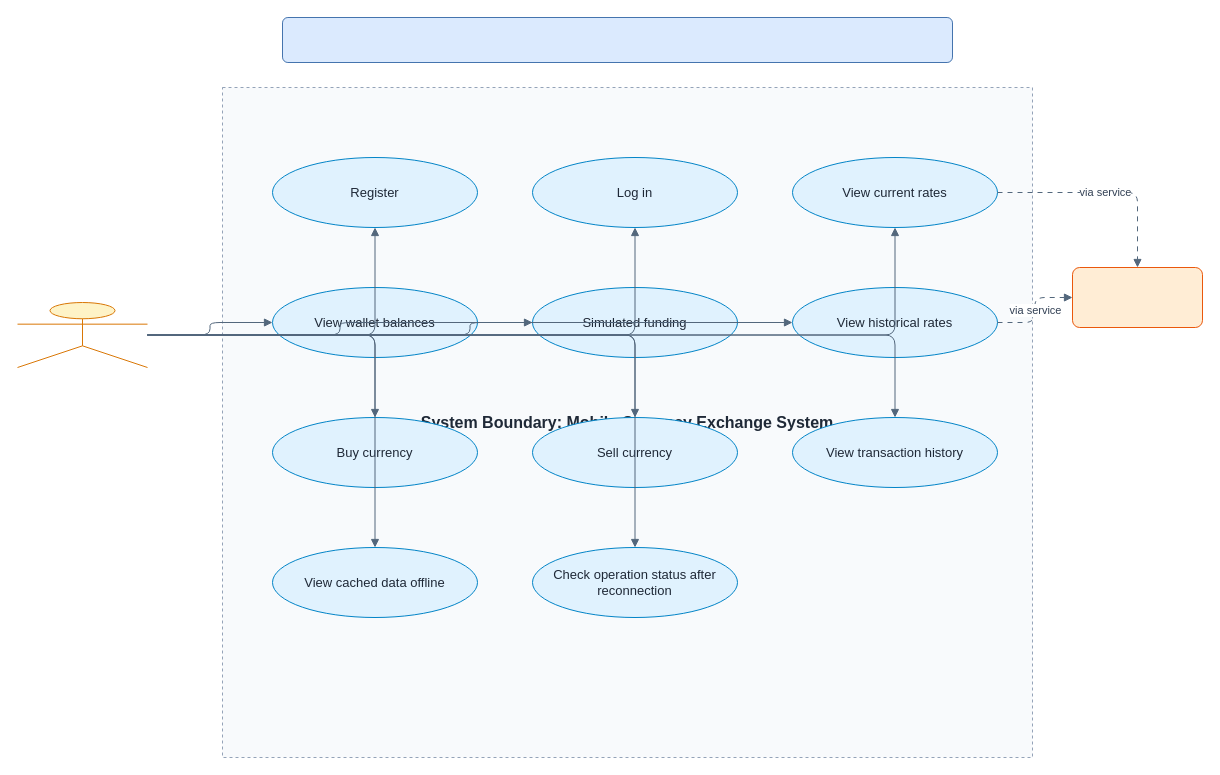
This 1220x775 diagram has some shape labels left out. The shapes that lost their labels are listed below. From the top down, each one's centre as x and y in pixels, then its label:
point 617,39: Mobile Currency Exchange — UML Use Cases
point 1137,297: NBP API
point 82,335: User
